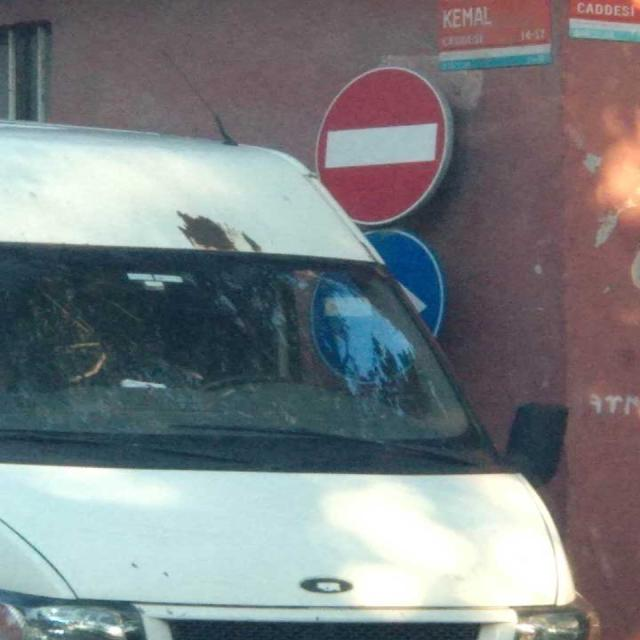girisyok: (315, 66, 453, 225)
